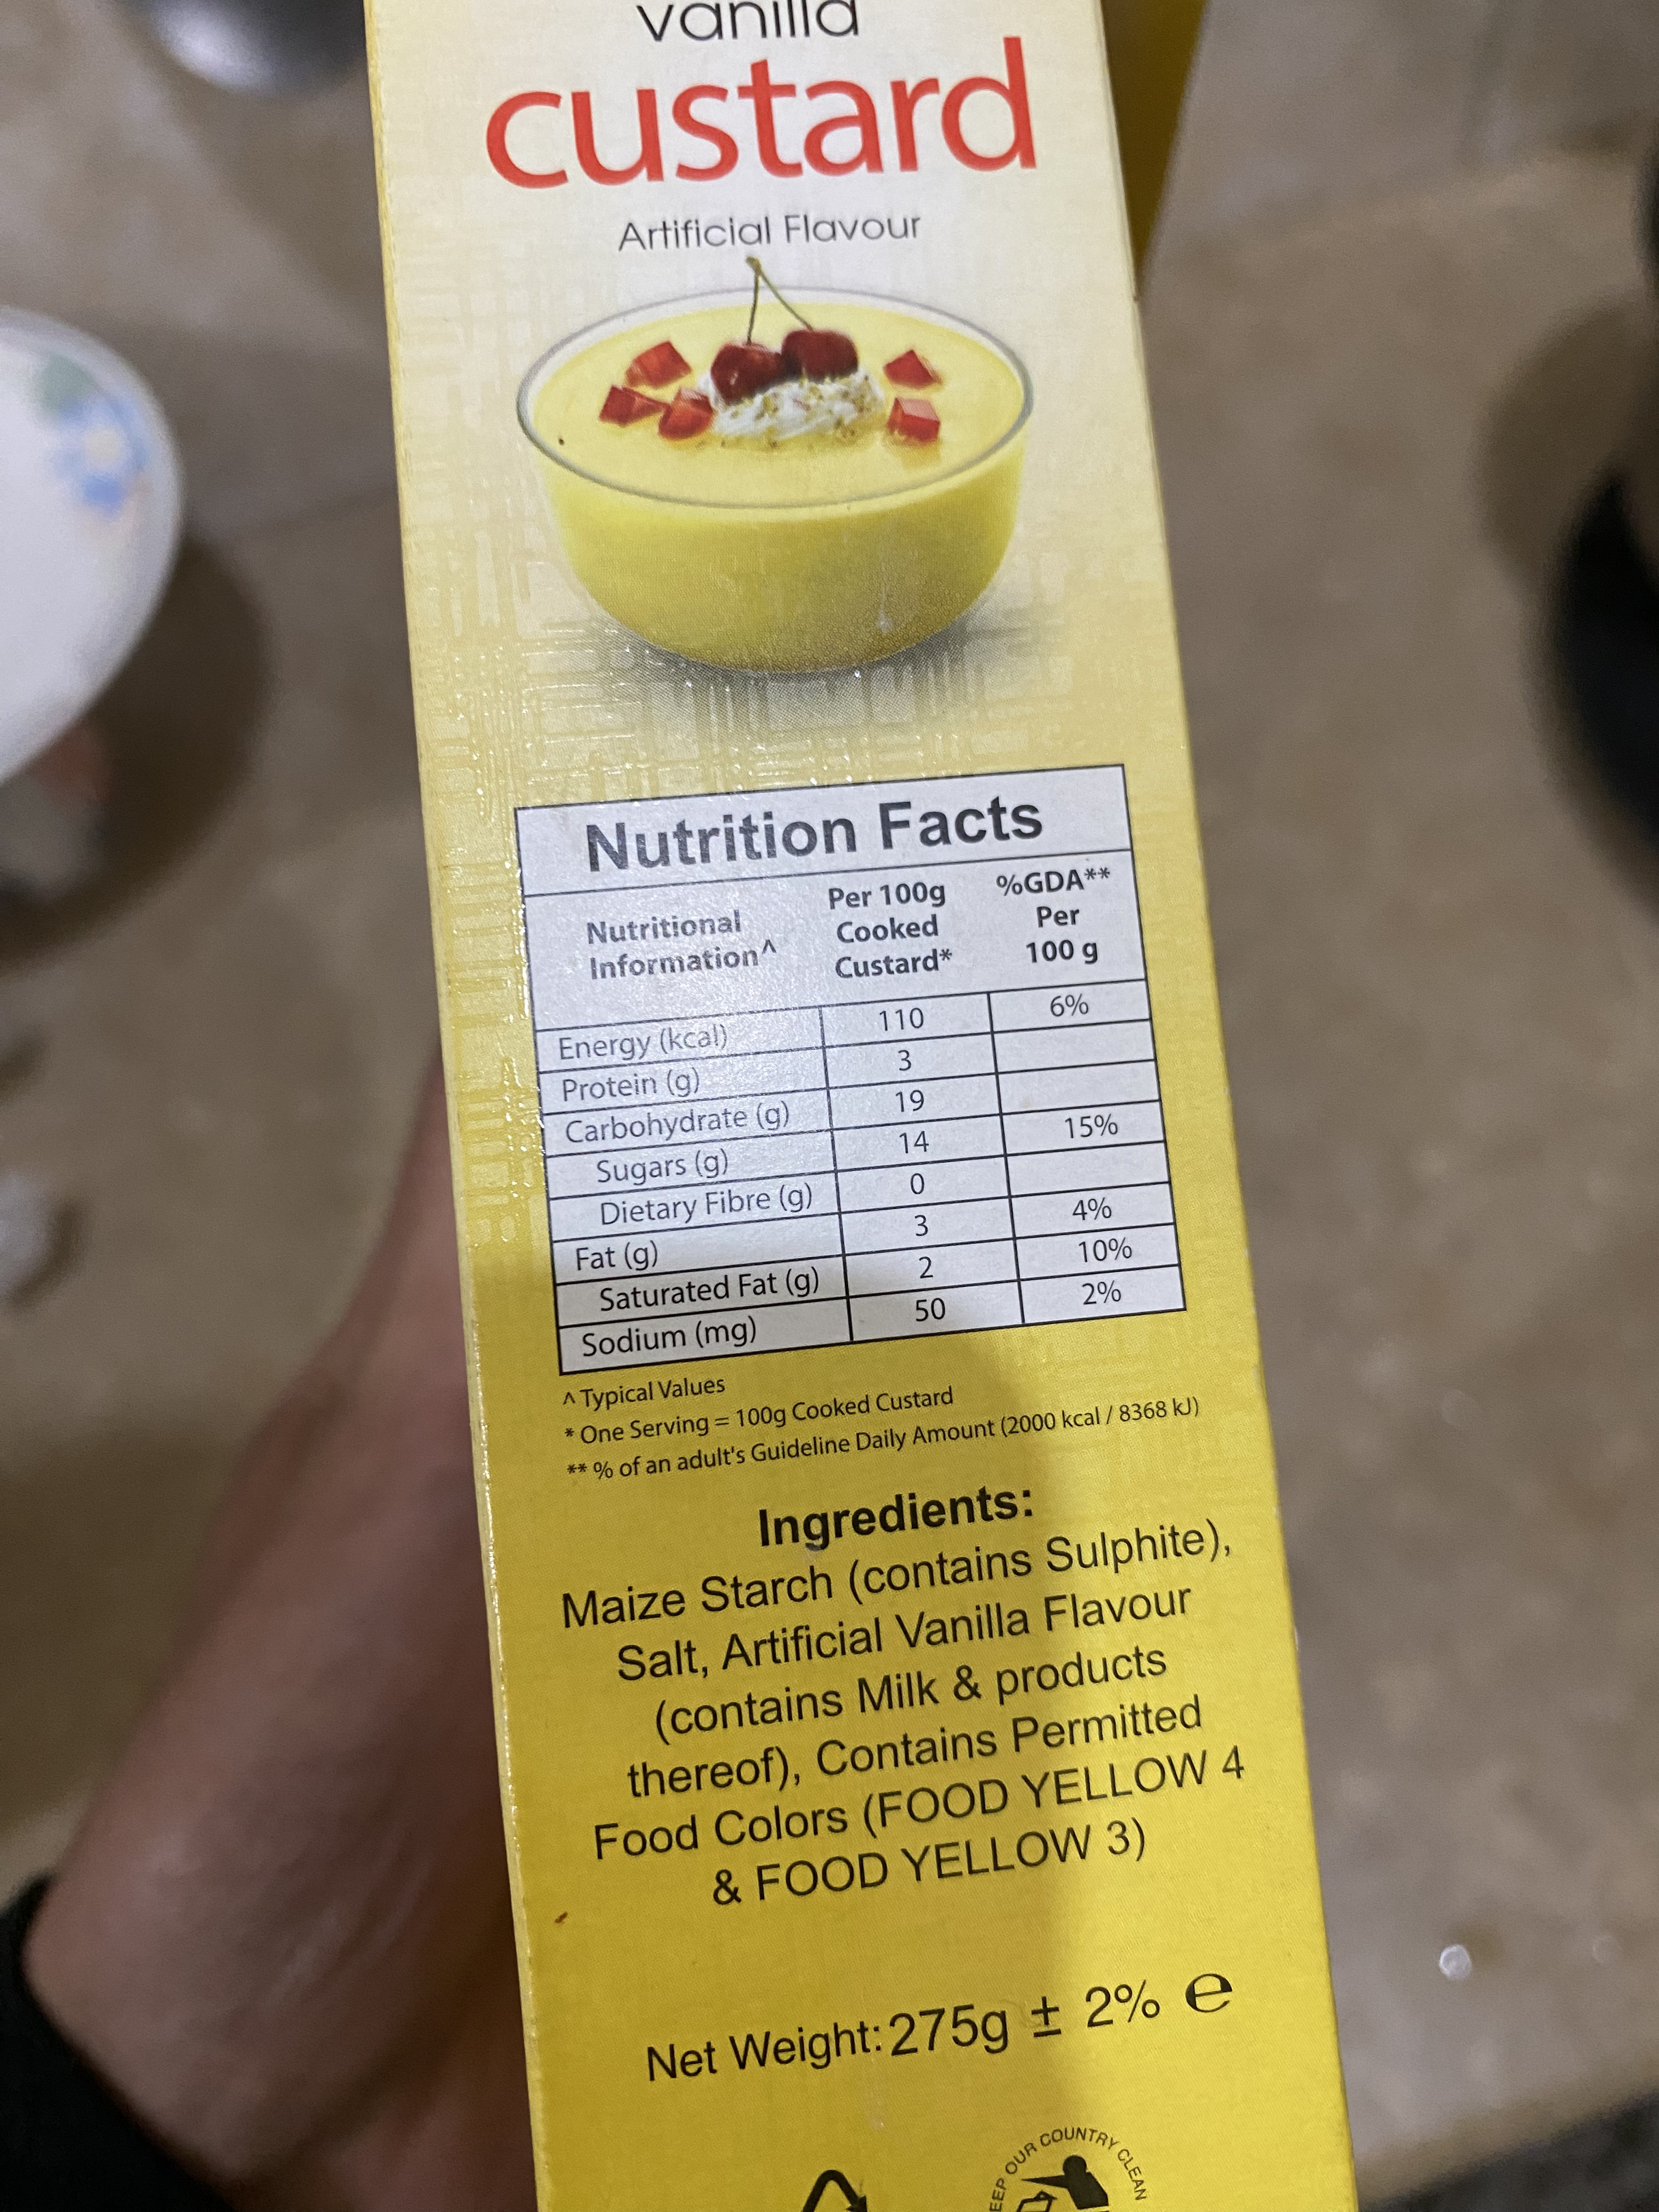table: (502, 765, 1218, 1385)
